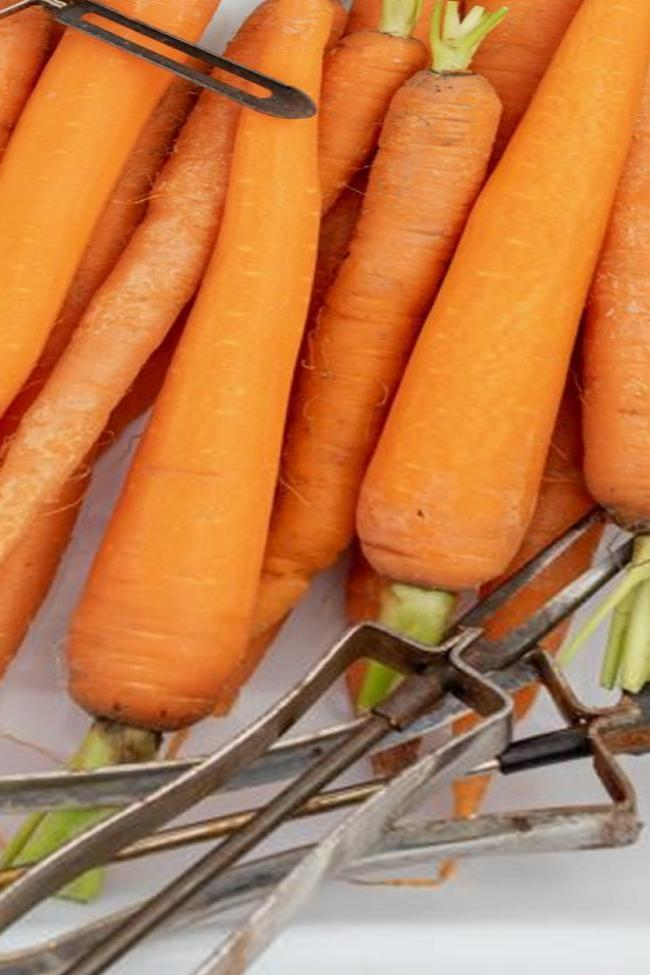carrot: (43, 29, 650, 584), (206, 0, 650, 568), (4, 0, 222, 744)
